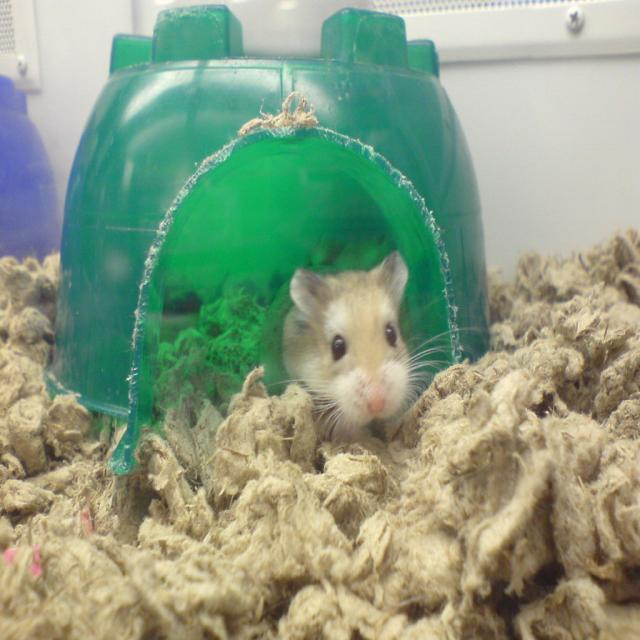rat: (278, 248, 418, 427)
